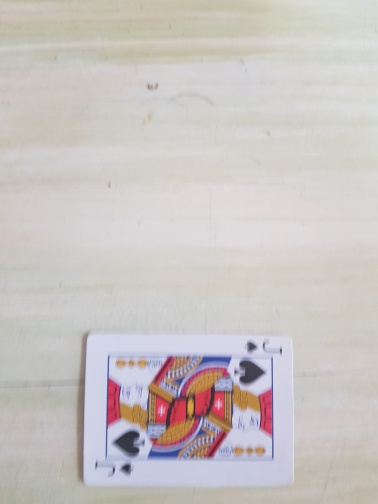jack: (82, 332, 296, 487)
